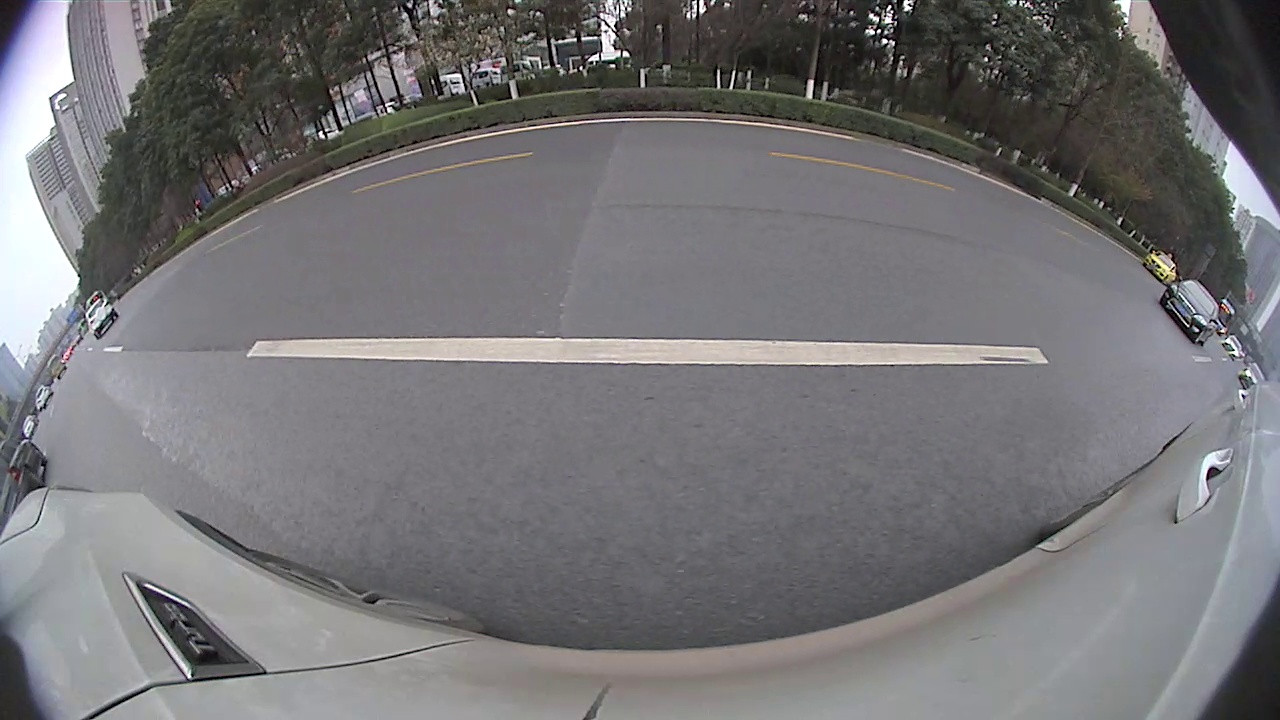car: (1159, 279, 1220, 346), (82, 289, 120, 340), (1144, 249, 1179, 287)
